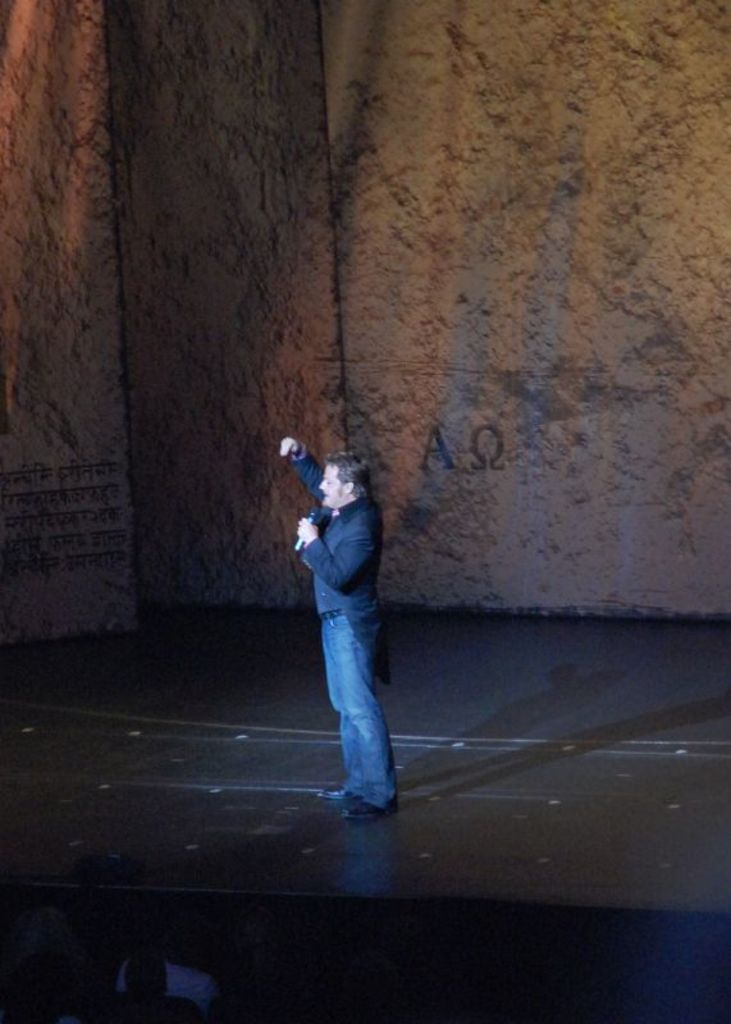Human-face: (320, 462, 346, 509)
